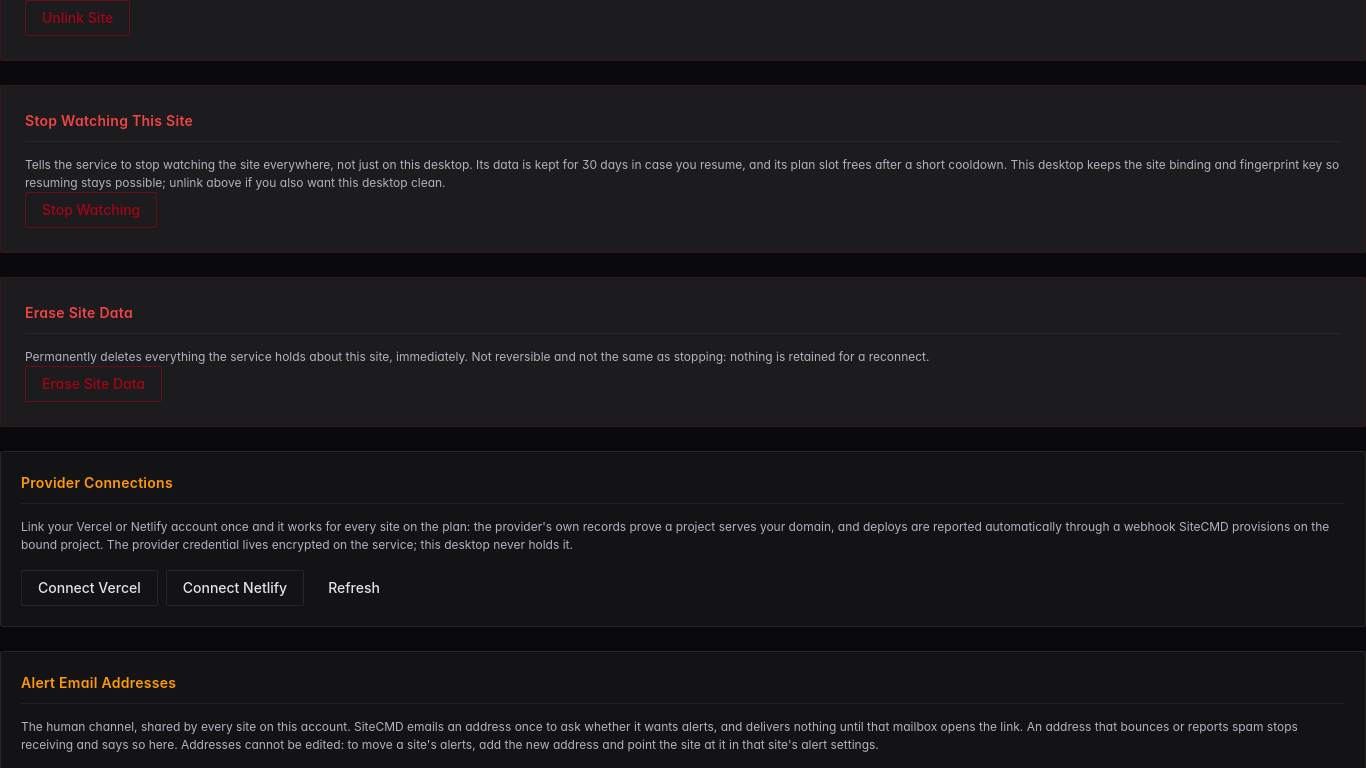
ConnectedServiceSection › erases the site and shows the receipt token exactly once
The image size is (1366, 768).
(page scrolled)
Click the button "Erase Site Data" at (93, 384), box [25,366,162,402]
(page scrolled)
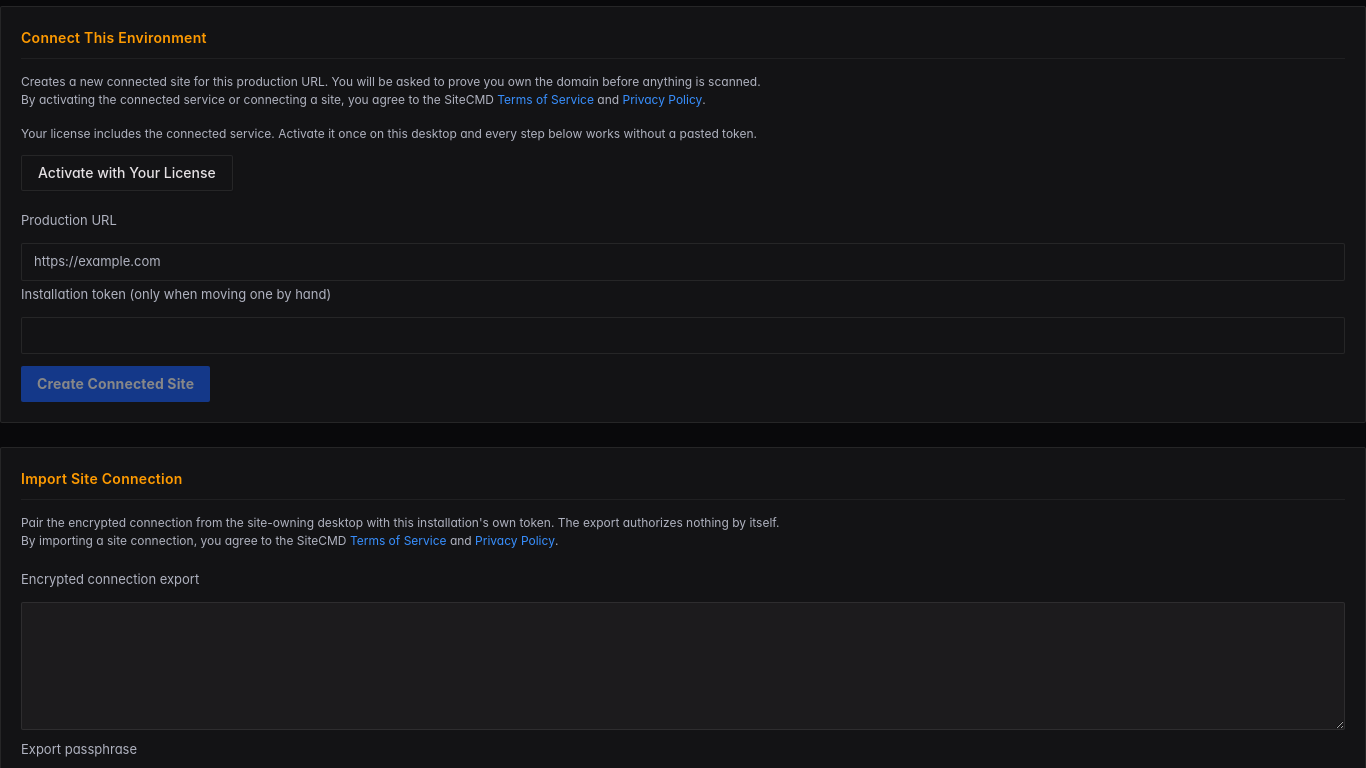
expect the button "Create Connected Site" is shown: met, box [21,366,210,402]
